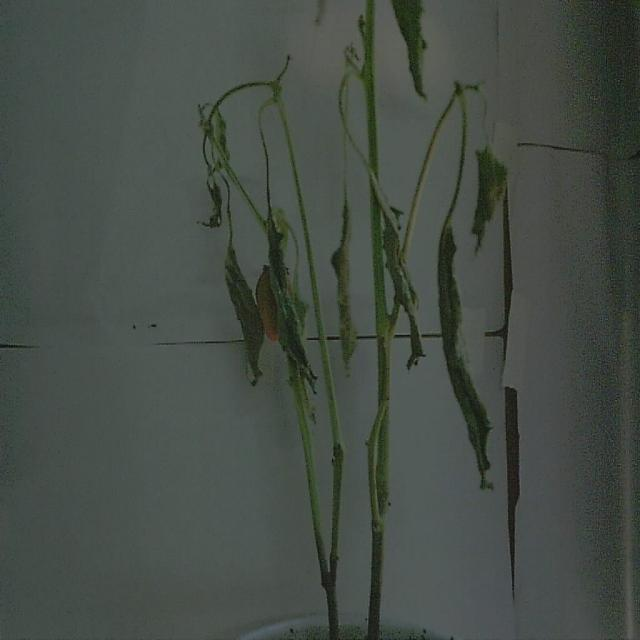Leaf: (437, 212, 495, 493), (264, 199, 323, 419), (222, 228, 266, 388), (330, 195, 361, 378), (197, 171, 224, 230)
